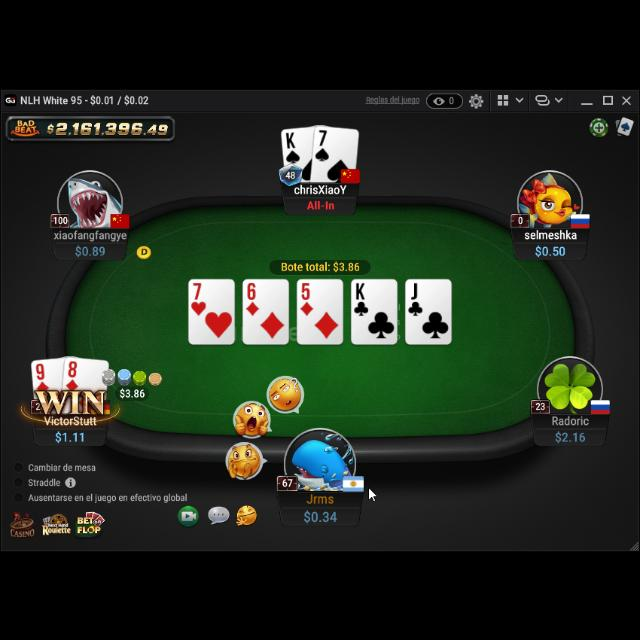5d: (298, 279, 314, 315)
6d: (244, 279, 260, 315)
7h: (190, 278, 207, 314)
7s: (314, 126, 331, 160)
8d: (64, 358, 80, 390)
9d: (34, 361, 50, 391)
Jc: (408, 278, 424, 316)
Kc: (354, 278, 371, 316)
Ks: (284, 128, 302, 162)
all_in_symbol: (304, 195, 336, 209)
bet_text: (120, 384, 146, 396)
dealer: (134, 242, 154, 258)
pot_text: (281, 258, 364, 270)
stack_text: (301, 507, 339, 523), (534, 241, 566, 255), (74, 243, 106, 257), (55, 428, 85, 442), (555, 430, 587, 442)
